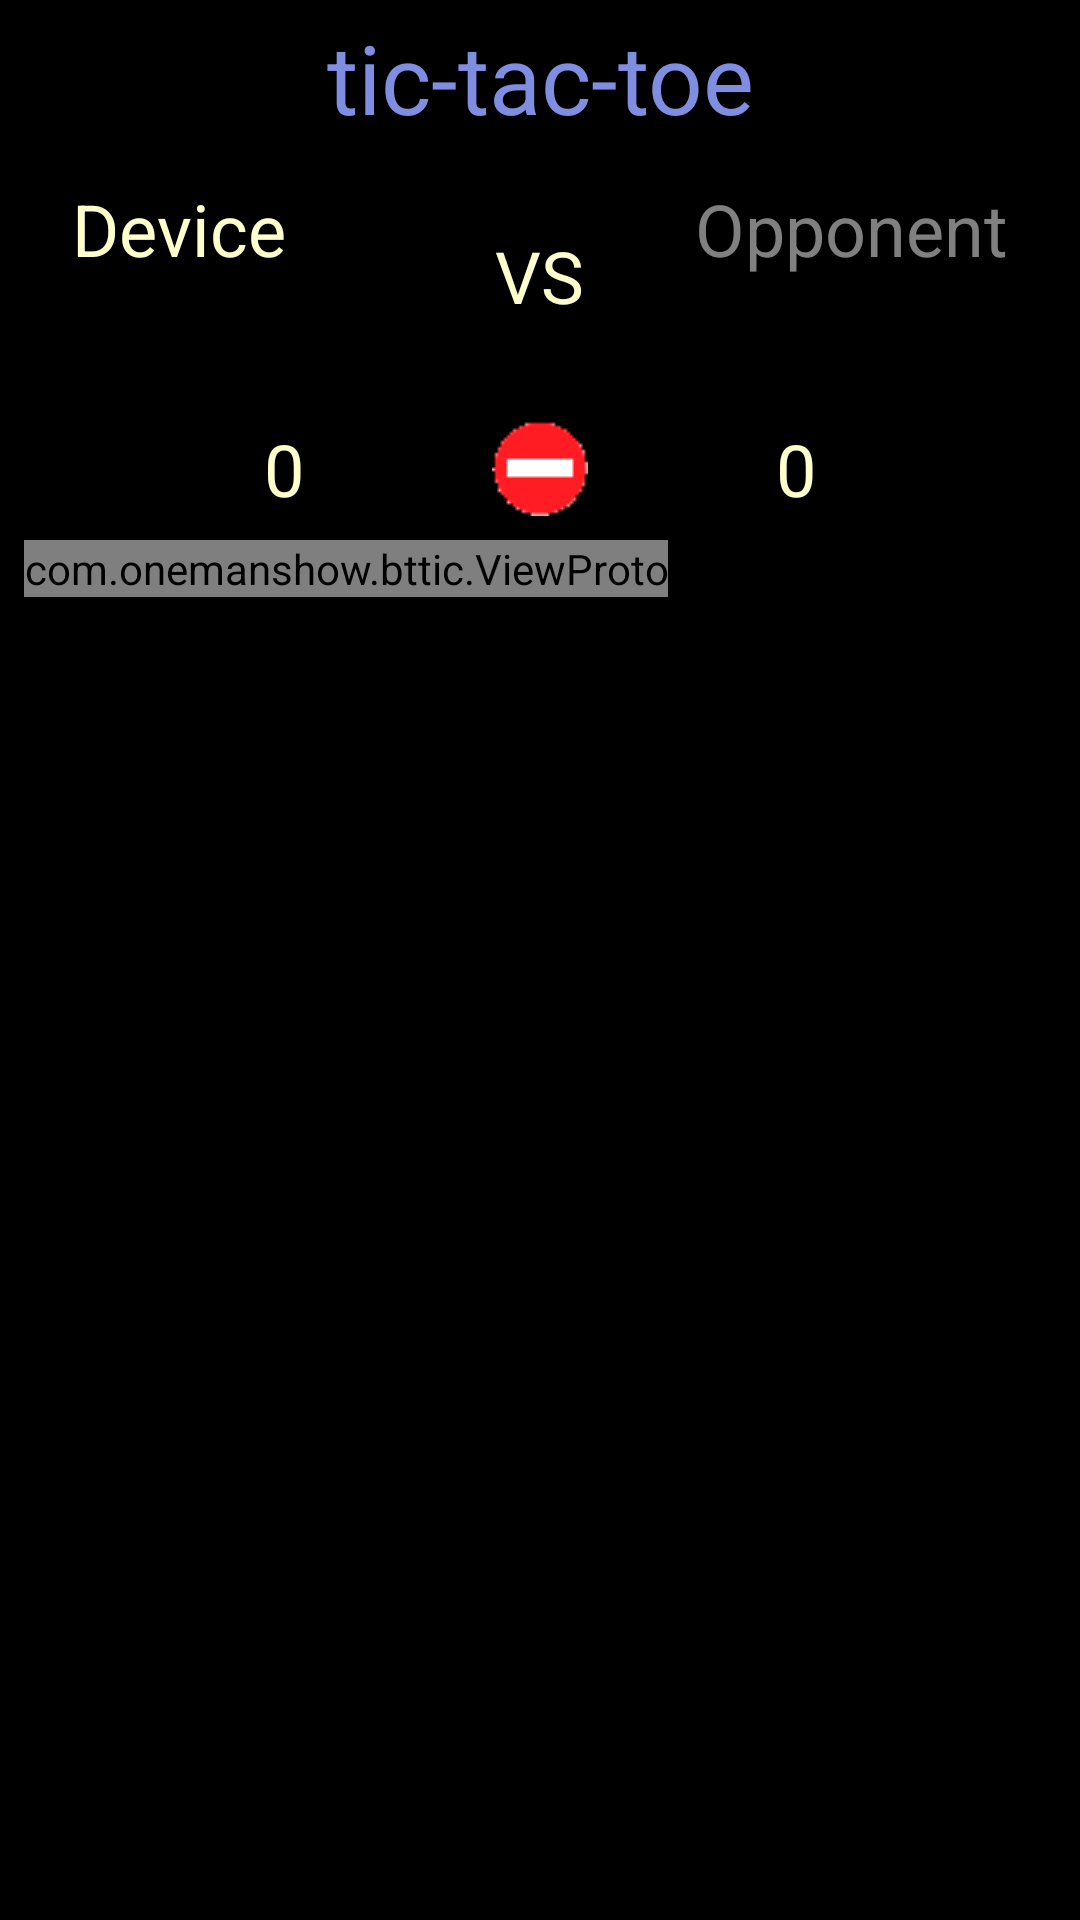

Named icons in this screenshot (1080px x 1920px) and their centers, [x,y]:
no enter: [540,469]
